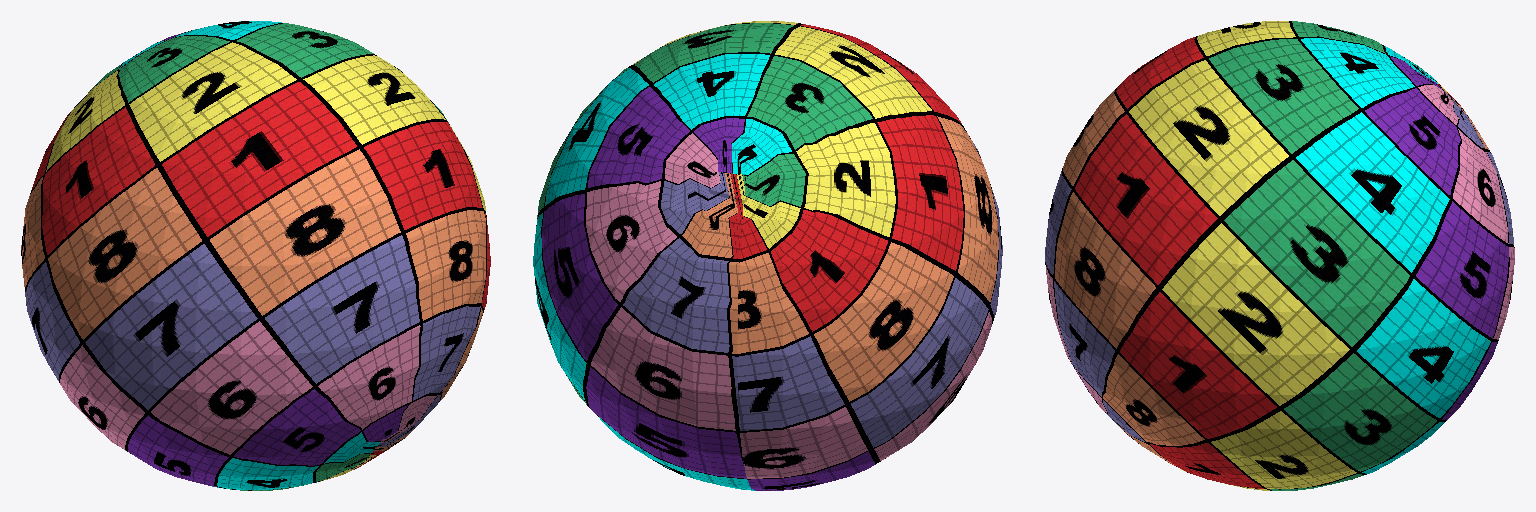
The picture shows the model from 3 angles: view 1: azimuth 30°, elevation 25°; view 2: azimuth 150°, elevation 25°; view 3: azimuth 270°, elevation 25°; orthographic projection.
Parts seen in each view (by area): view 1: Sphere.001; view 2: Sphere.001; view 3: Sphere.001.
Boxes of the visible parts, <box> form: Sphere.001: <box>21,21,490,490</box>; Sphere.001: <box>533,21,1002,490</box>; Sphere.001: <box>1045,21,1514,490</box>.
Bounding box in the file's own units: 11.72 × 11.72 × 11.72.
Materials: 1 (1 with a texture image).